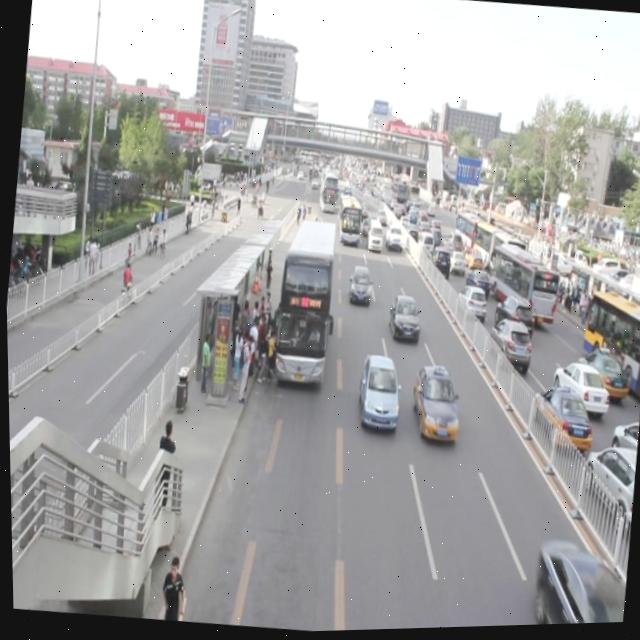car: (524, 540, 627, 628), (405, 363, 461, 448), (351, 355, 400, 435), (383, 294, 419, 345), (344, 264, 371, 306), (381, 224, 402, 253), (360, 218, 372, 237), (375, 209, 385, 227), (341, 181, 351, 199), (357, 204, 366, 219)
truck: (364, 219, 382, 254)
van: (269, 217, 336, 392), (333, 192, 361, 247), (316, 173, 338, 211)
